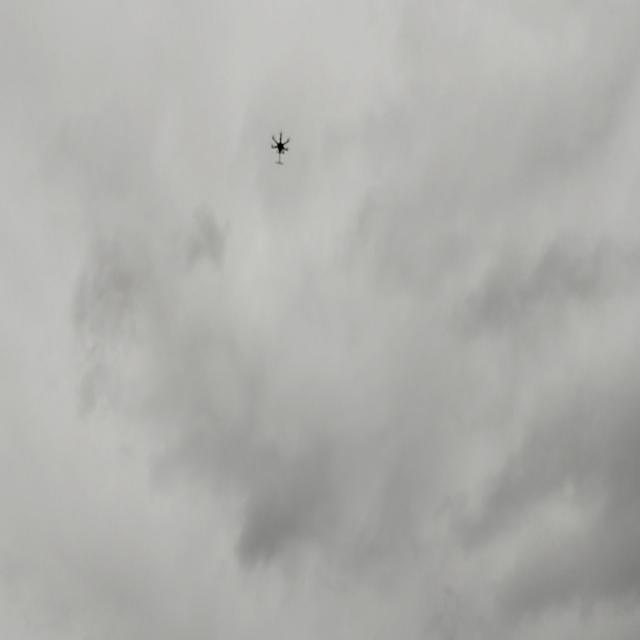drone: (269, 130, 292, 166)
